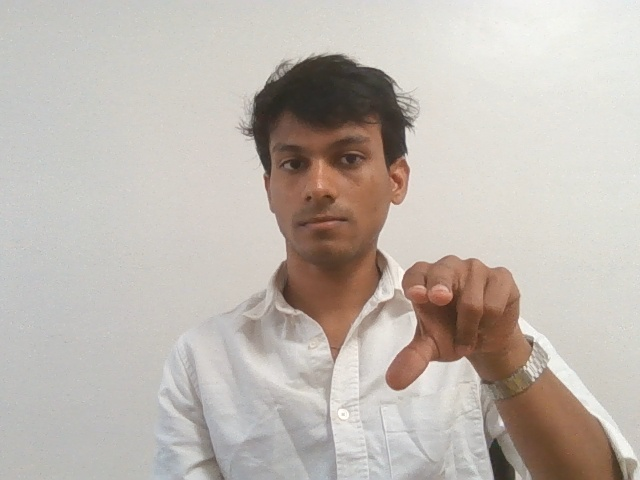No: (390, 245, 533, 393)
